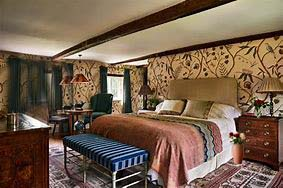copymove: (59, 73, 75, 109)
removal: (24, 61, 54, 109)
spliced: (229, 130, 244, 164)
